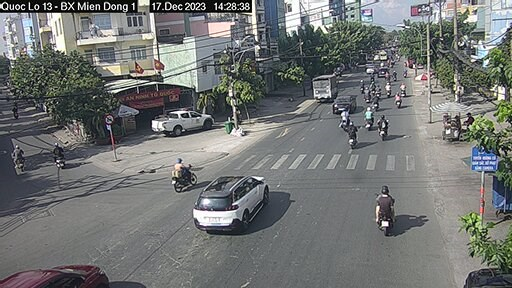car: (197, 172, 272, 231), (151, 108, 219, 137), (334, 95, 358, 115), (377, 65, 389, 79), (366, 62, 378, 74)
motorbike: (373, 186, 395, 229), (171, 155, 196, 191), (377, 116, 395, 144), (12, 143, 28, 172), (50, 142, 67, 168), (359, 105, 376, 131), (343, 124, 357, 151)
truck: (306, 70, 340, 106)
